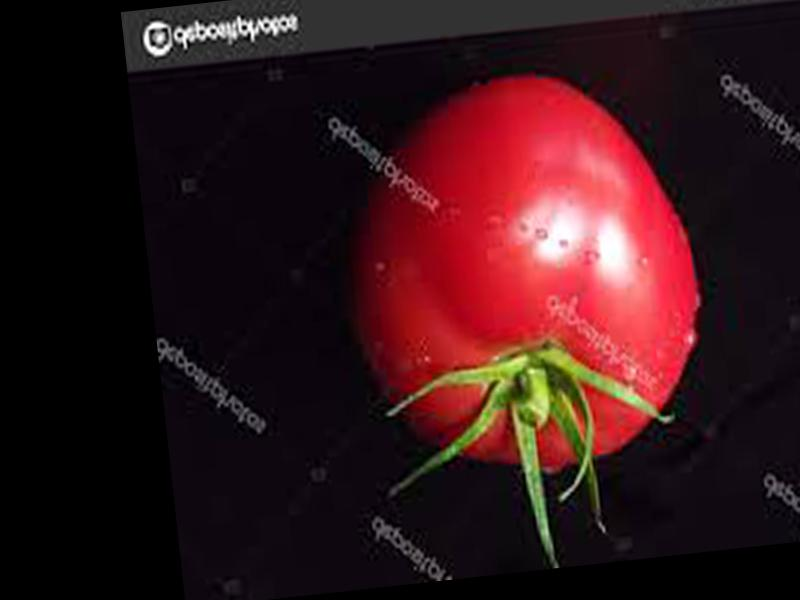Tomato: (331, 60, 716, 488)
